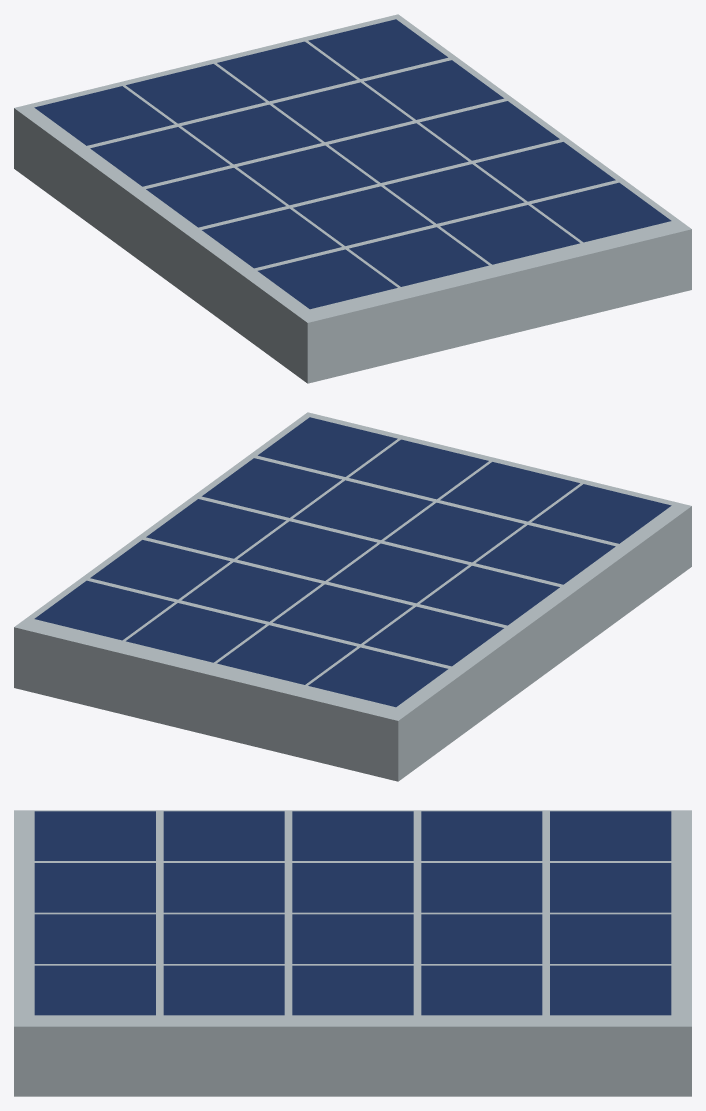
Rendered from liciacube.wing_02.glb.
The picture shows the model from 3 angles, top to bottom: view 1: azimuth 30°, elevation 25°; view 2: azimuth 150°, elevation 25°; view 3: azimuth 270°, elevation 25°; orthographic projection. The views are drawn at different scales.
Visible parts, largest first — view 1: liciacube.wing_02.panel.mesh_Indigo_solar_cells, liciacube.wing_02.panel.mesh_Satin_aluminum; view 2: liciacube.wing_02.panel.mesh_Indigo_solar_cells, liciacube.wing_02.panel.mesh_Satin_aluminum; view 3: liciacube.wing_02.panel.mesh_Indigo_solar_cells, liciacube.wing_02.panel.mesh_Satin_aluminum.
Boxes of the visible parts, x1,y1,x2,y2 form: liciacube.wing_02.panel.mesh_Indigo_solar_cells: [34, 19, 671, 309]; liciacube.wing_02.panel.mesh_Satin_aluminum: [14, 14, 691, 383]; liciacube.wing_02.panel.mesh_Indigo_solar_cells: [34, 417, 671, 707]; liciacube.wing_02.panel.mesh_Satin_aluminum: [14, 412, 691, 781]; liciacube.wing_02.panel.mesh_Indigo_solar_cells: [34, 811, 671, 1015]; liciacube.wing_02.panel.mesh_Satin_aluminum: [14, 810, 691, 1096].
Bounding box in the file's own units: 0.139 × 0.0225 × 0.184.
